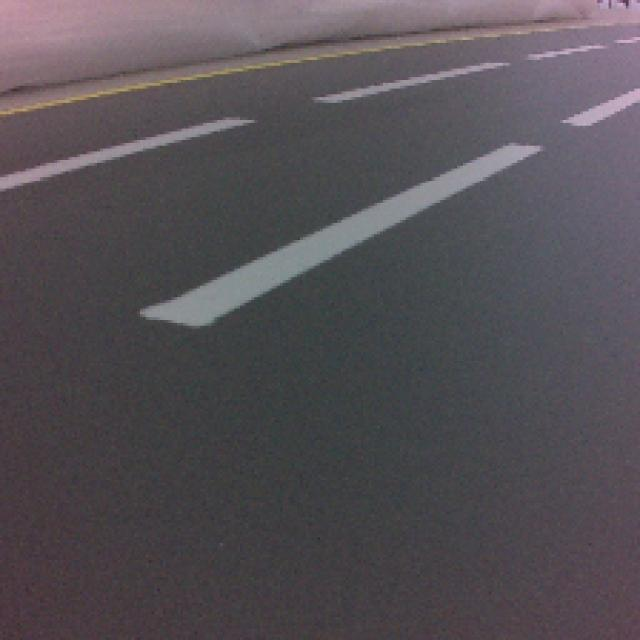Road: (0, 317, 634, 638)
